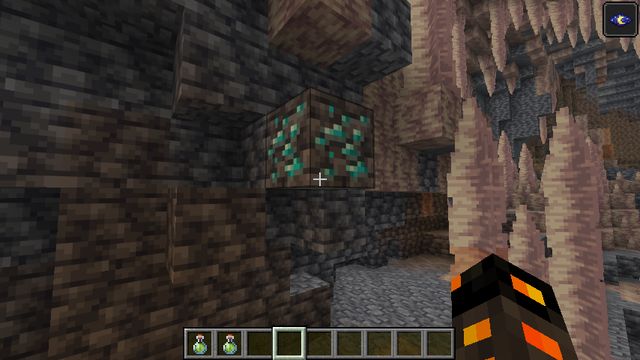diamond: (266, 90, 374, 190)
